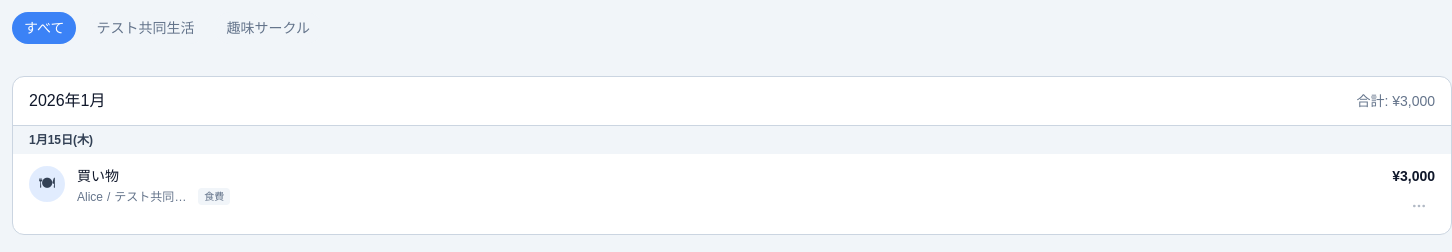
PaymentListWithFilter › 空状態 › フィルタ後に該当なしの場合にメッセージが表示される
The width and height of the screenshot is (1452, 252).
# Filter to group-2 (no payments)
Click the button "趣味サークル" at (268, 28), box top-left (214, 12), bottom-right (322, 44)
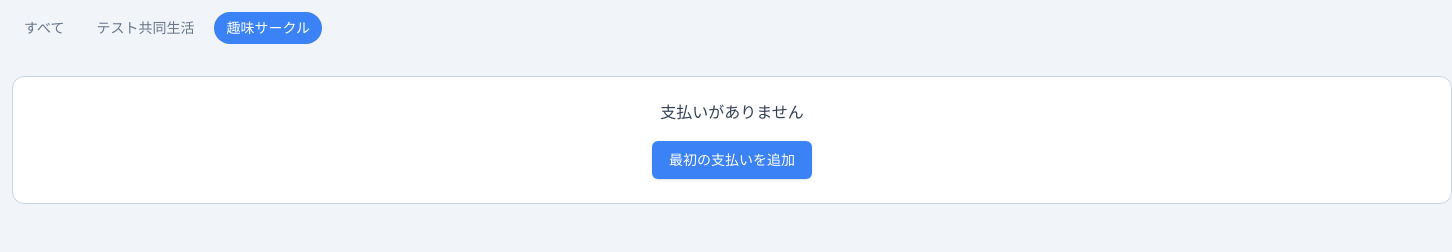
Expected: the text "支払いがありません" is shown, top-left (660, 104), bottom-right (804, 121)
